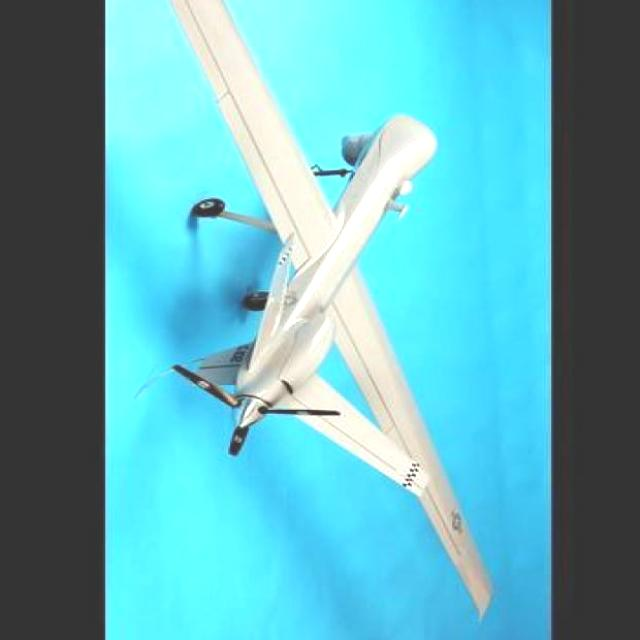plane: (133, 0, 496, 621)
